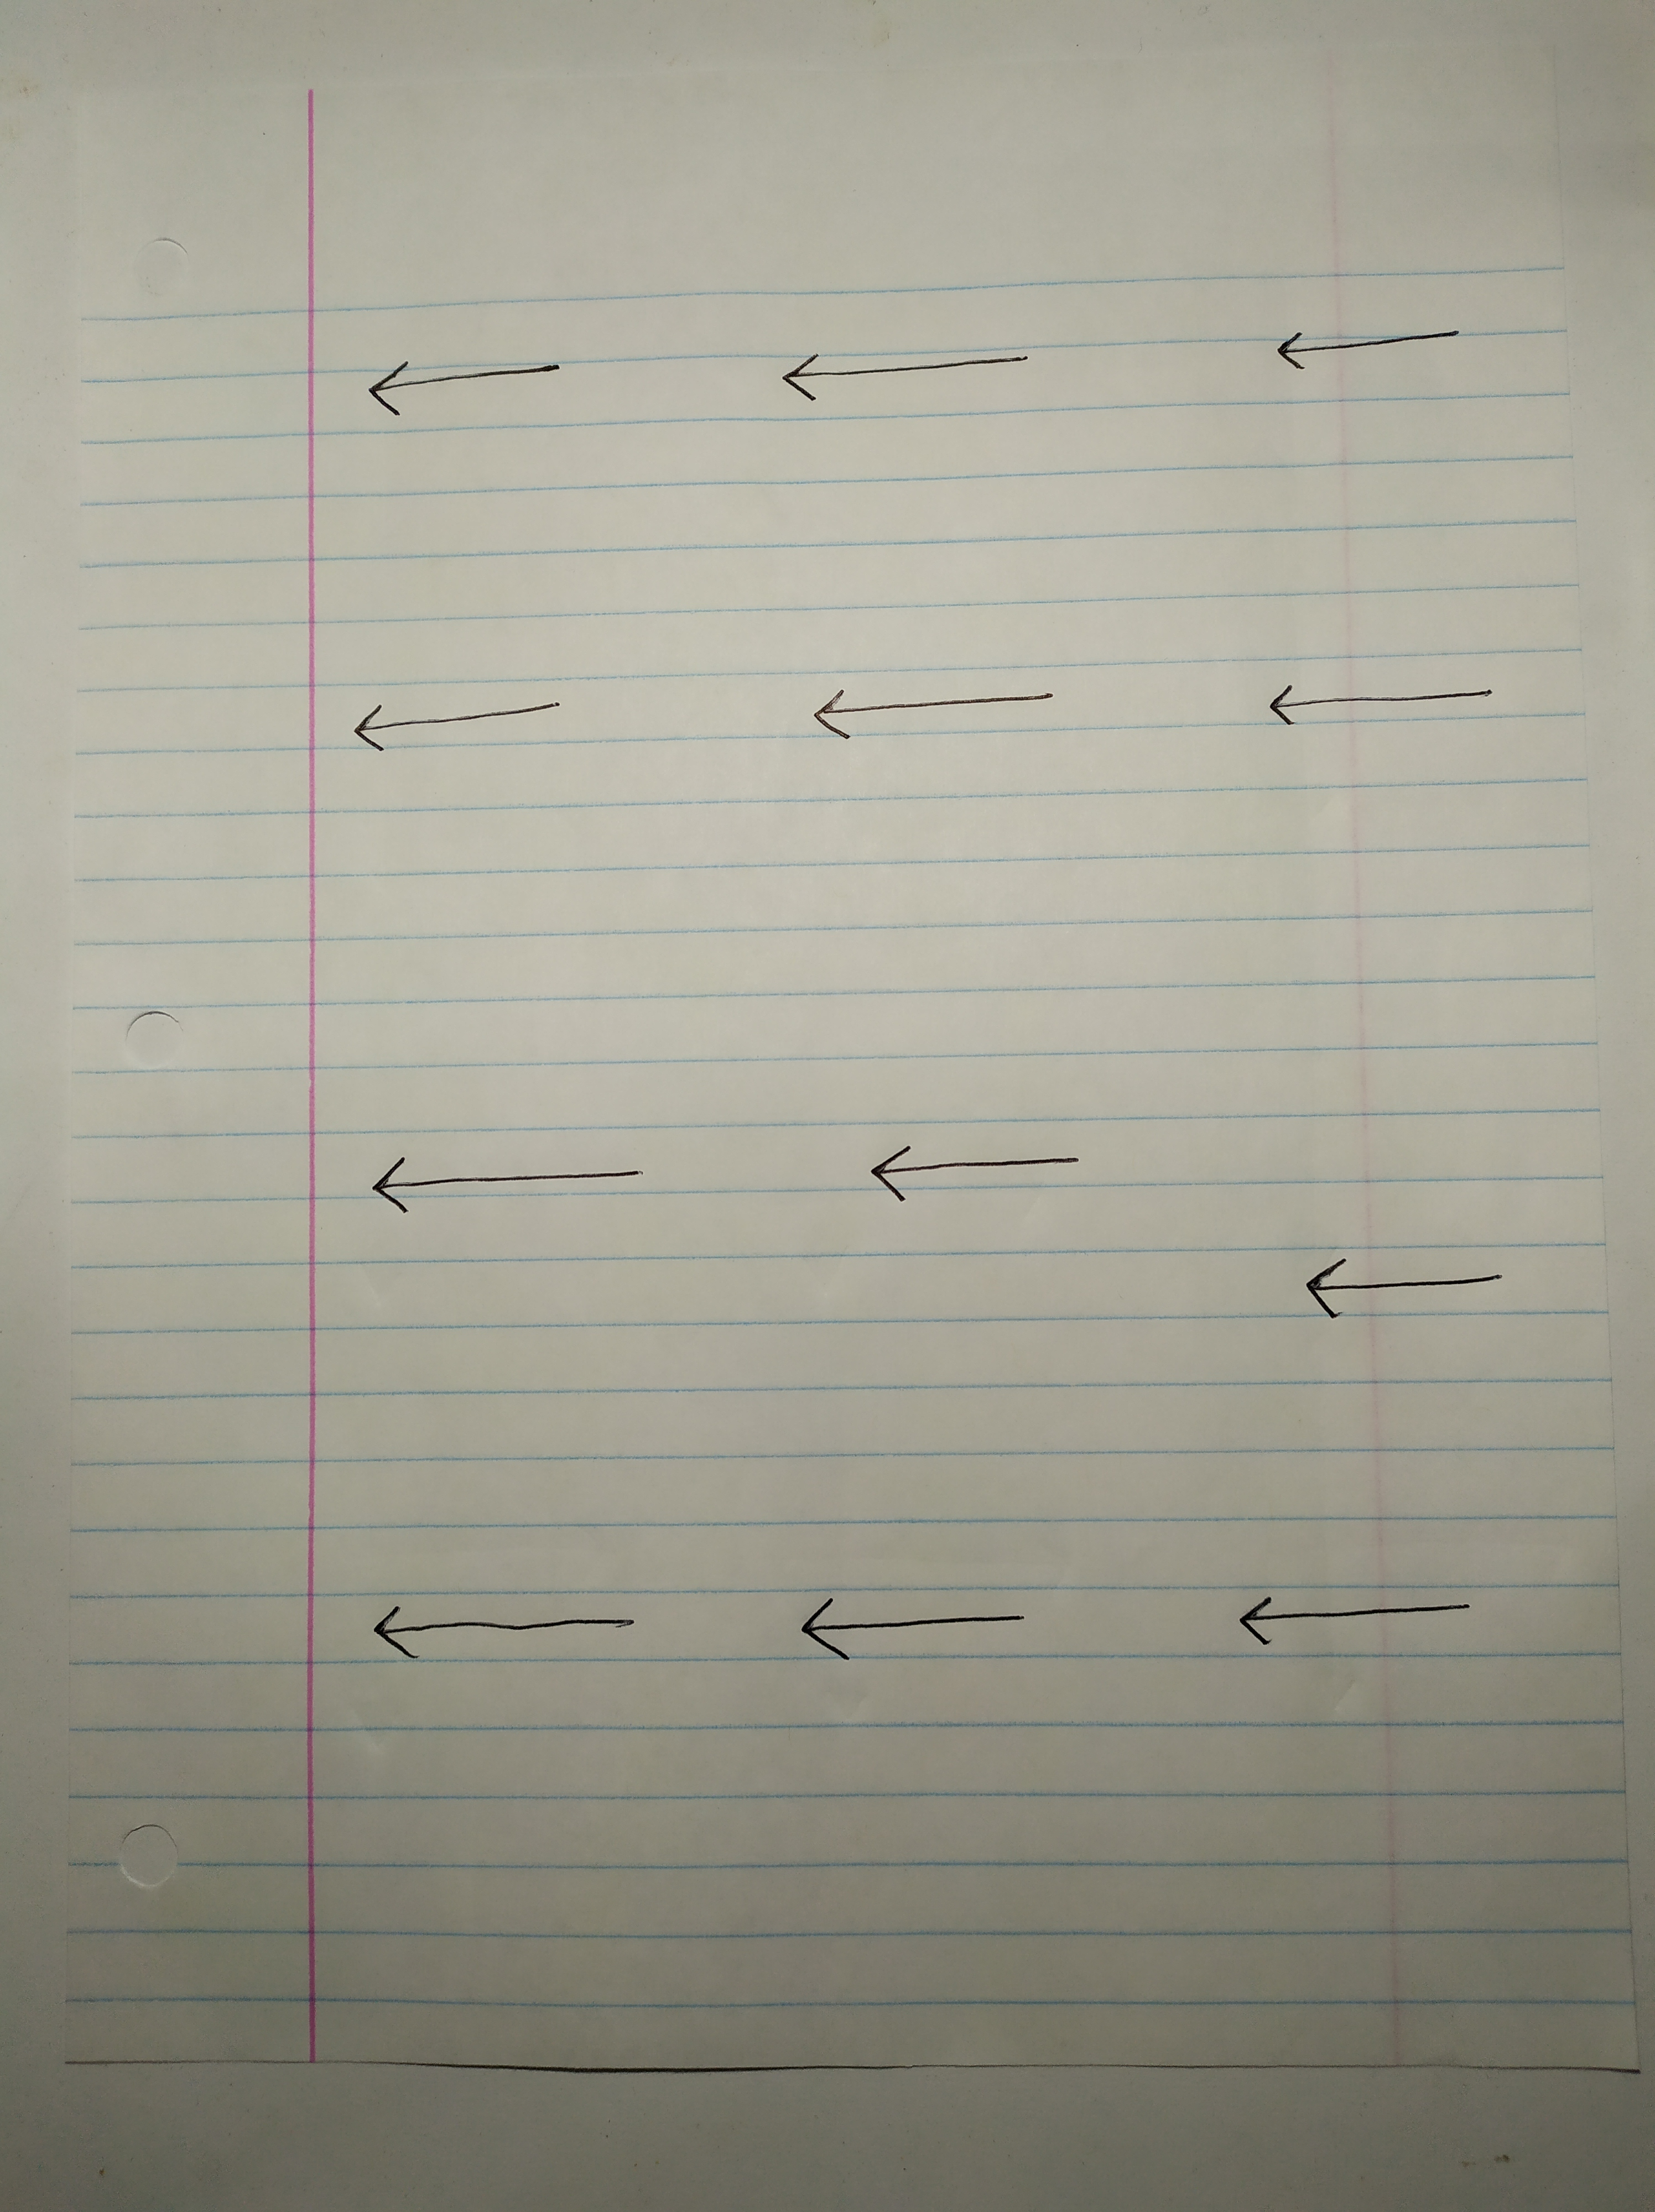arrow_line_left: (772, 664, 1113, 763), (341, 1581, 694, 1677), (332, 318, 622, 433), (1194, 1567, 1519, 1666), (767, 1578, 1069, 1682), (336, 1133, 675, 1223), (1252, 1244, 1575, 1338), (1219, 657, 1542, 749), (739, 334, 1076, 419), (1243, 304, 1502, 398), (838, 1138, 1128, 1208), (323, 688, 593, 763)
